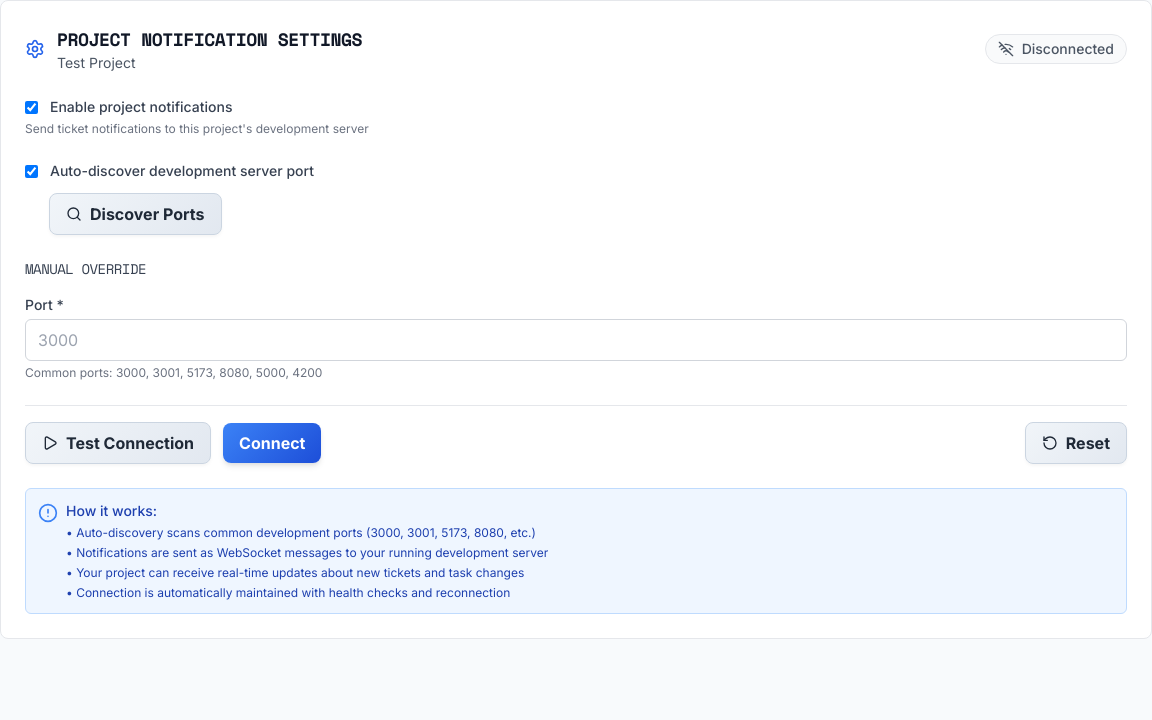
Test: ProjectPortConfiguration Component › Auto-Discovery › should display discovered ports
This screenshot has width=1152, height=720.
Click the button "Discover Ports" at x=135, y=214, box [49,193,222,235]
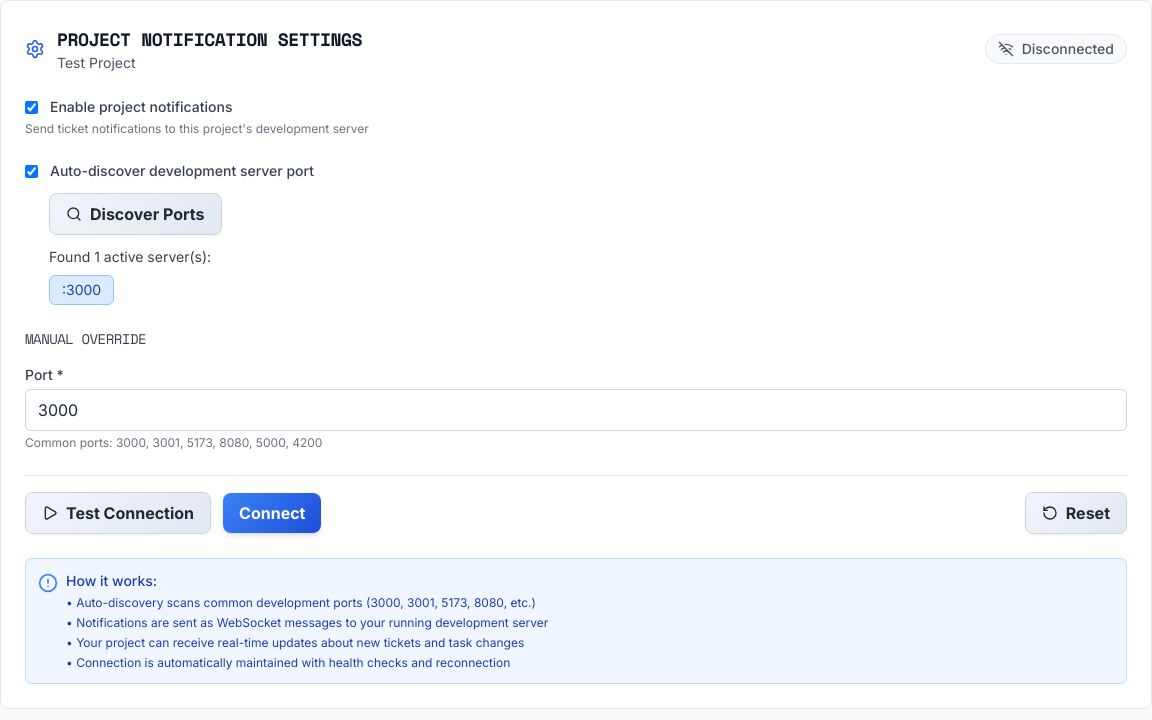
Result: the text "Found 1 active server(s):" is shown at [49,248,211,265]
